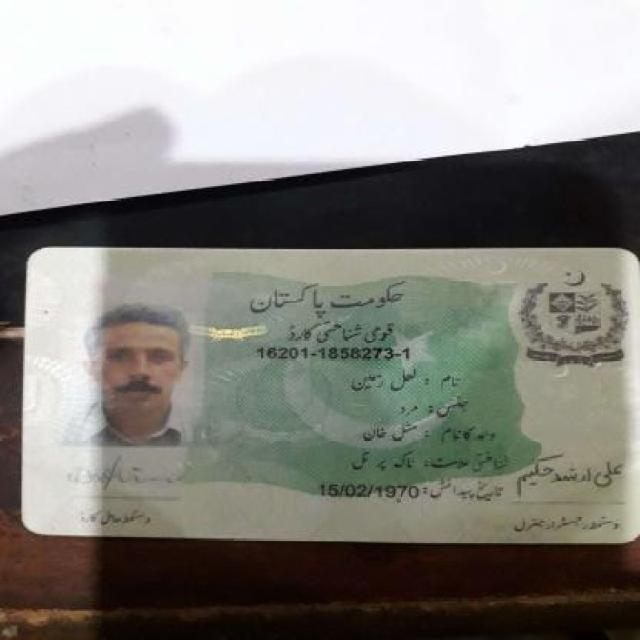Front: (23, 245, 634, 543)
